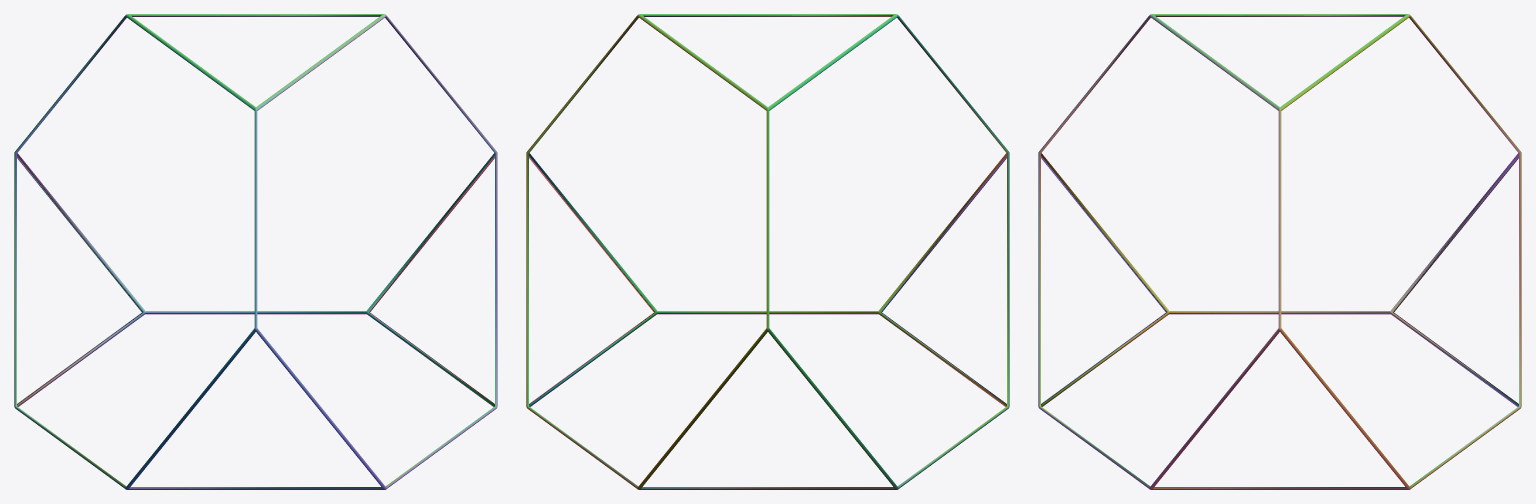
Rendered from zeometry-wireframes-wire-truncated-tetrahedron_v1.glb.
The picture shows the model from 3 angles, left to right: view 1: azimuth 30°, elevation 25°; view 2: azimuth 150°, elevation 25°; view 3: azimuth 270°, elevation 25°; orthographic projection.
Parts seen in each view (by area): view 1: Wire Truncated Tetrahedron; view 2: Wire Truncated Tetrahedron; view 3: Wire Truncated Tetrahedron.
Part boxes in pixels (<box>): Wire Truncated Tetrahedron: <box>14,14,497,489</box>; Wire Truncated Tetrahedron: <box>526,14,1009,489</box>; Wire Truncated Tetrahedron: <box>1038,14,1521,489</box>.
Size of the model in its own units: 0.5 by 0.4013 by 0.4891.
